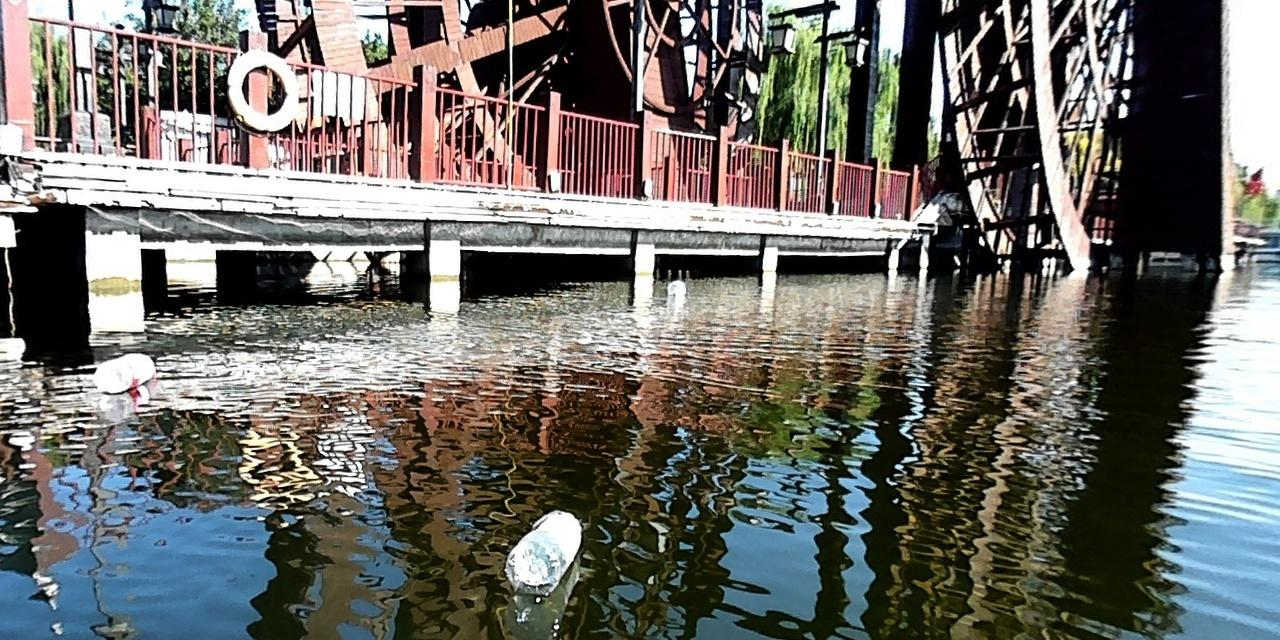bottle: (503, 508, 581, 593), (92, 352, 157, 392), (666, 280, 685, 296)
